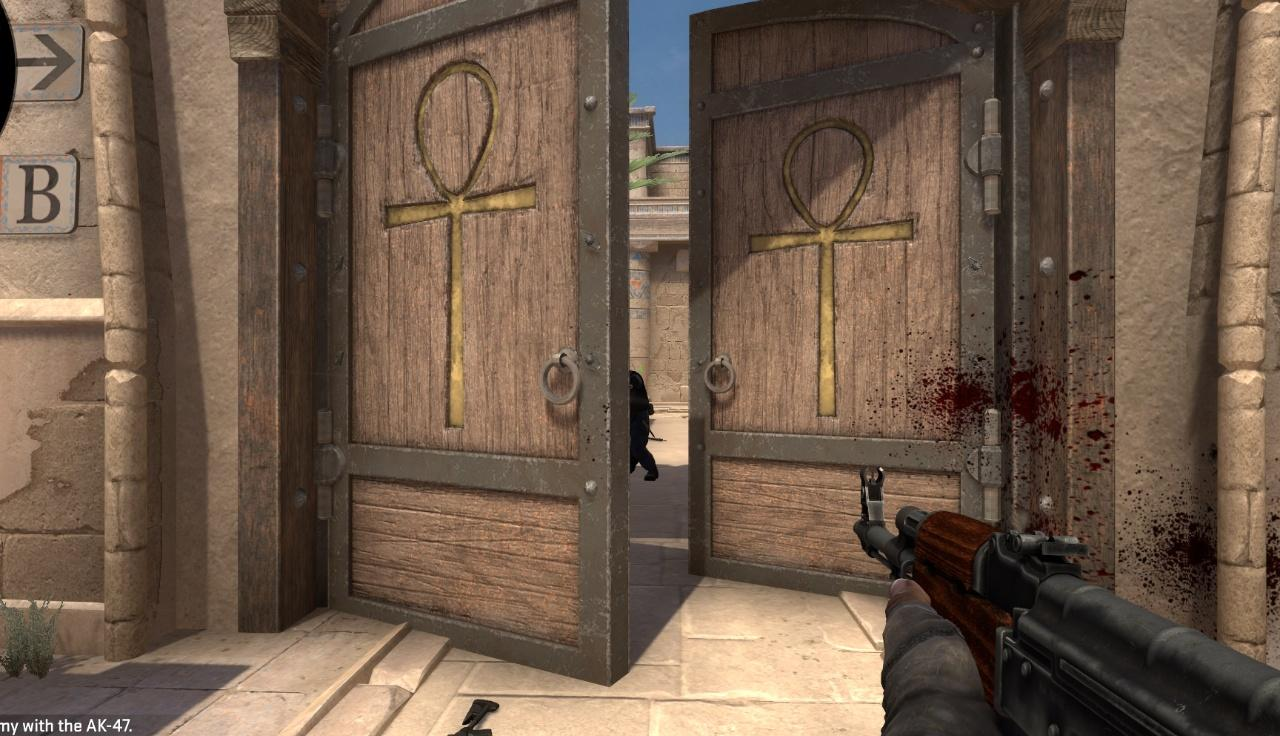ct: (629, 369, 659, 481)
rifle: (848, 482, 1280, 733)
